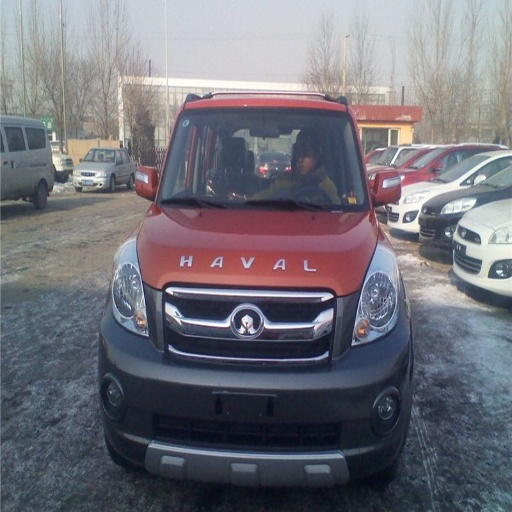front_bumper: (102, 286, 410, 486)
front_right_light: (112, 252, 152, 336)
hood: (138, 202, 377, 295)
